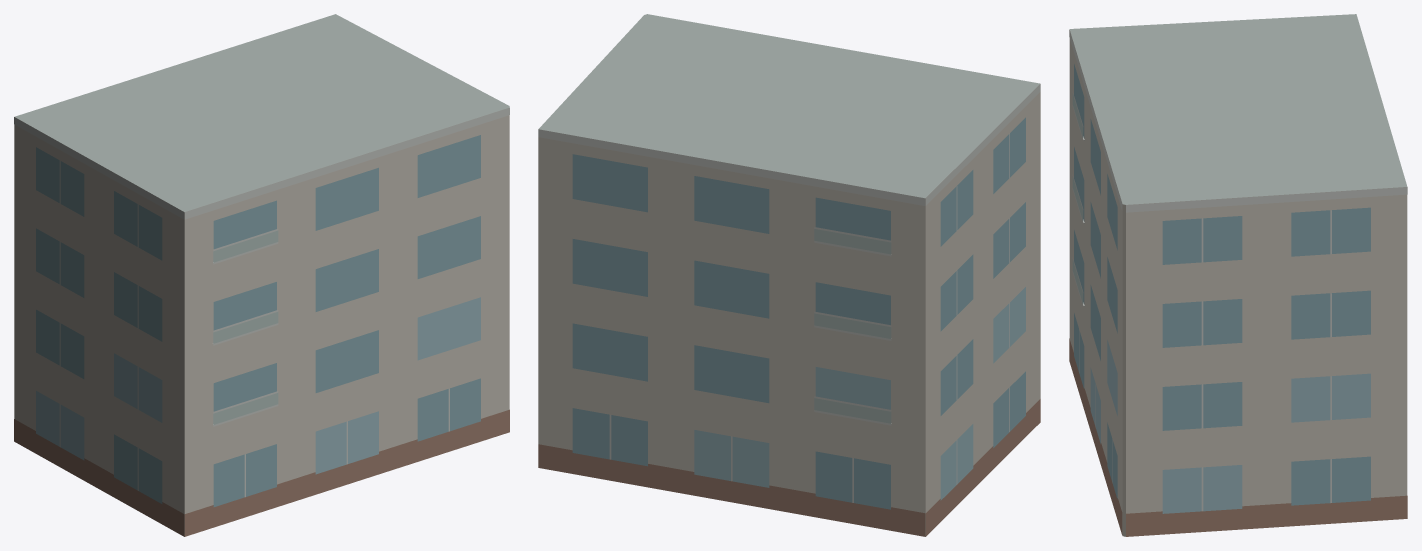
Rendered from survey-upis-32780562.glb.
3 views of the same model, side by side, from view 1: azimuth 30°, elevation 25°; view 2: azimuth 150°, elevation 25°; view 3: azimuth 270°, elevation 25° (orthographic). The views are drawn at different scales.
Parts seen in each view (by area): view 1: survey-upis-32780562.tmp; view 2: survey-upis-32780562.tmp; view 3: survey-upis-32780562.tmp.
Boxes of the visible parts, x1,y1,x2,y2 form: survey-upis-32780562.tmp: (14, 14, 509, 536); survey-upis-32780562.tmp: (538, 14, 1040, 536); survey-upis-32780562.tmp: (1069, 14, 1407, 536).
Size of the model in its own units: 12.96 by 10.5 by 9.7.
